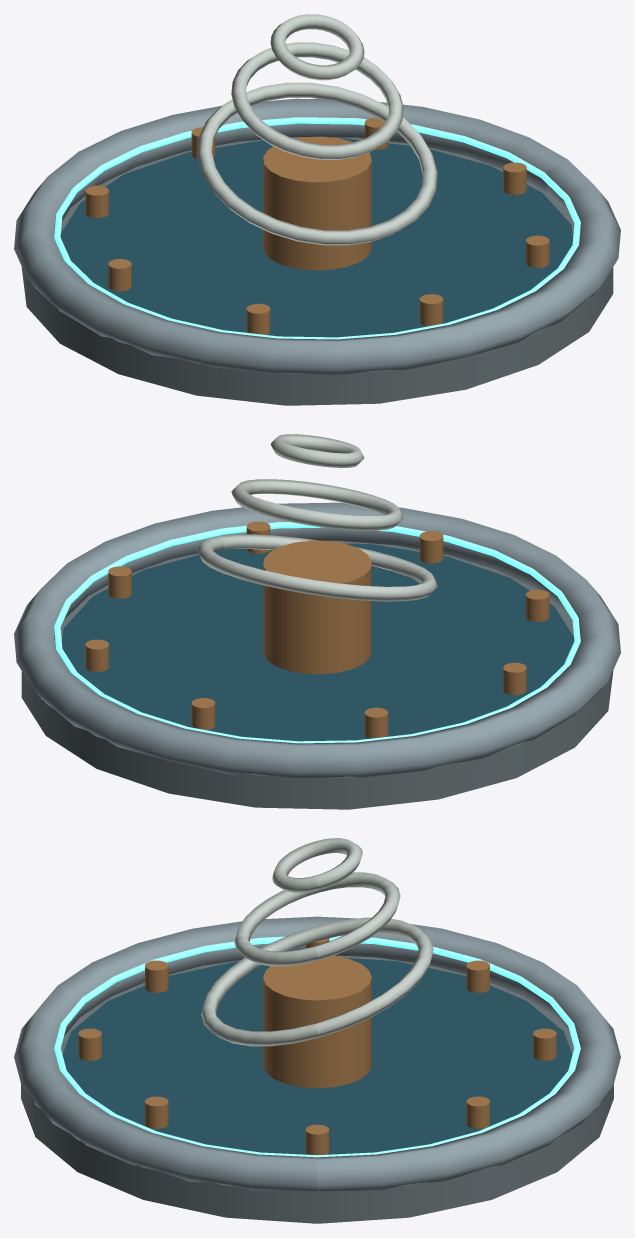
File: kinetic-fountain.lod1.glb
3 renders of one model, top to bottom at view 1: azimuth 30°, elevation 25°; view 2: azimuth 150°, elevation 25°; view 3: azimuth 270°, elevation 25°, orthographic.
Visible parts, largest first — view 1: structure, sculpture; view 2: structure, sculpture; view 3: structure, sculpture.
Part boxes in pixels (x1,y1,x2,y2): structure: (14, 98, 620, 405); sculpture: (197, 14, 437, 245); structure: (14, 502, 620, 809); sculpture: (197, 434, 437, 601); structure: (14, 916, 620, 1223); sculpture: (201, 838, 433, 1046).
Size of the model in its own units: 6.14 by 2.8 by 6.14.
